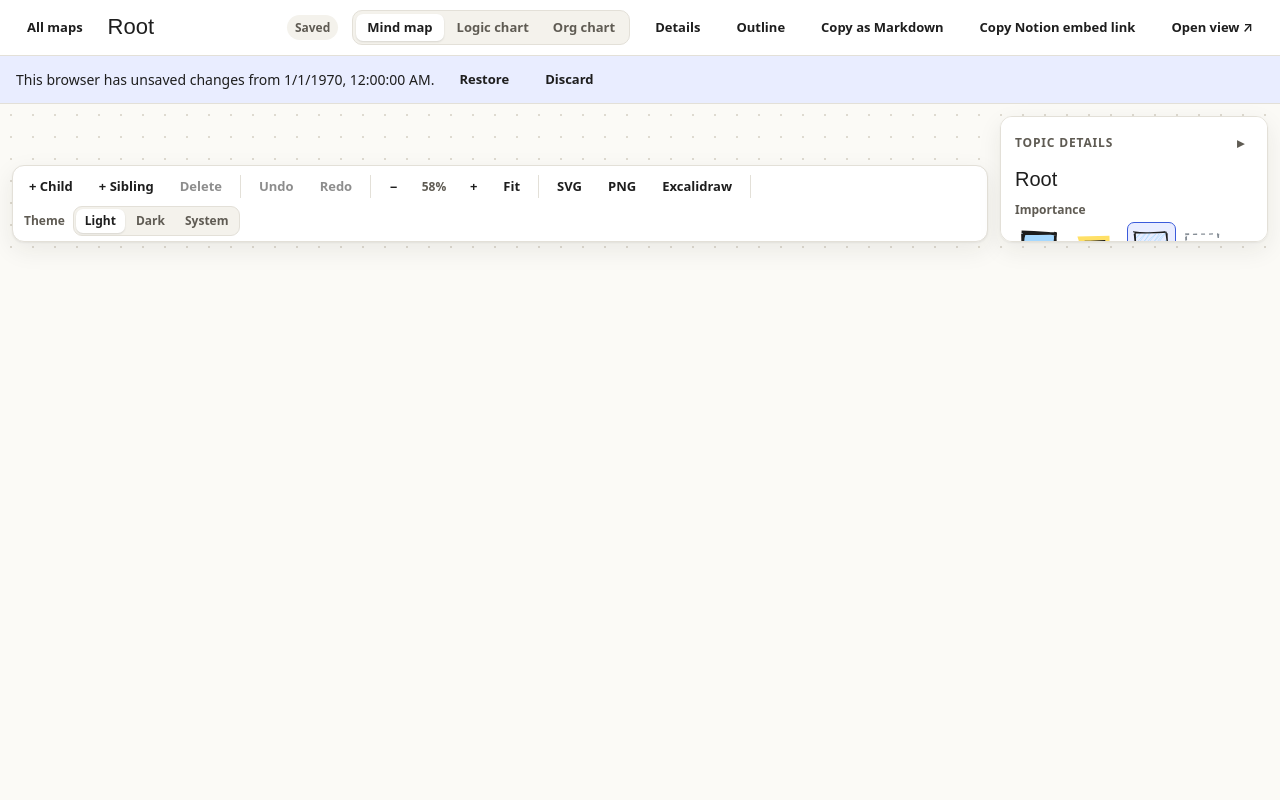
Editor › restoring a draft based on an old ETag asks via the conflict dialog instead of silently overwriting a newer server version
Click the button "Restore" at (484, 80), box [448,64,520,95]
Wait 1000 ms
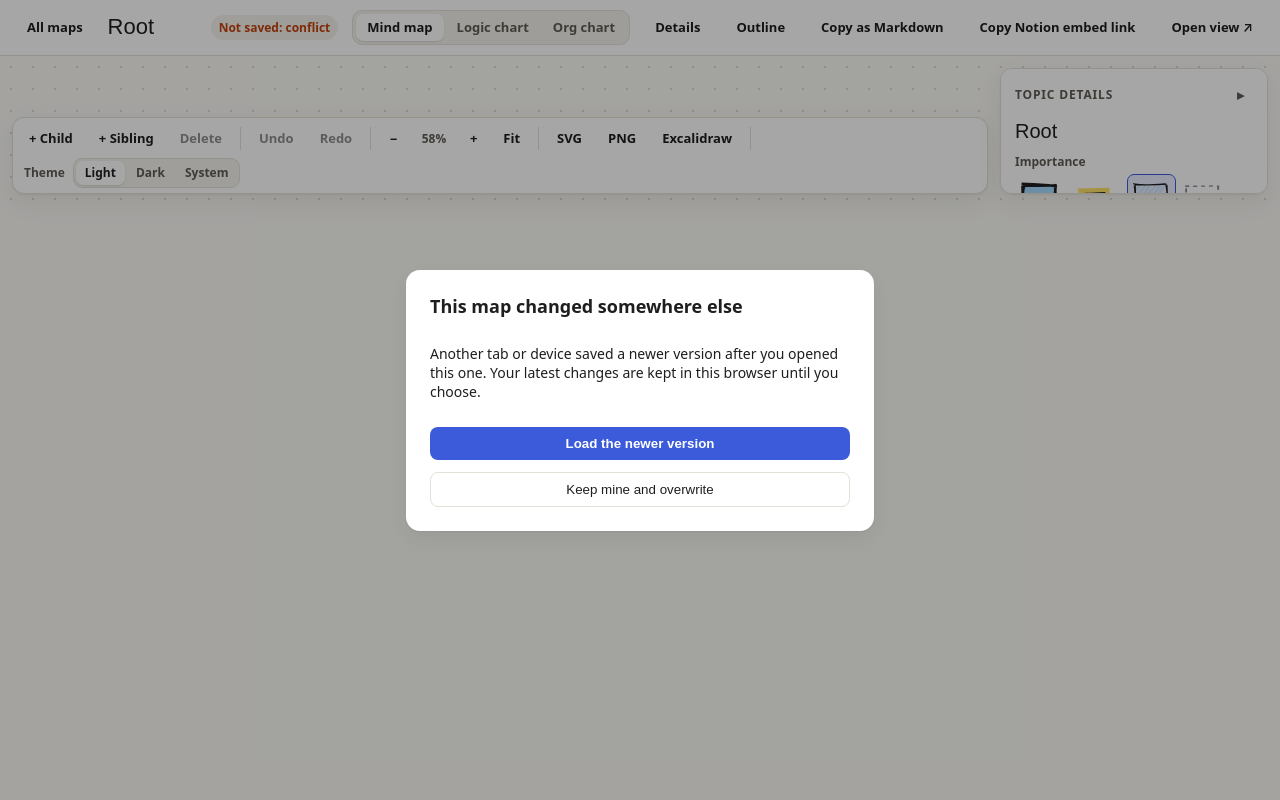
Now the dialog is shown, box [406,270,874,530]
